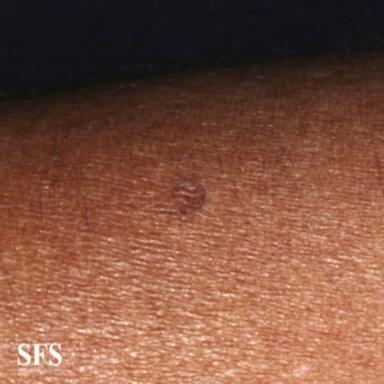Porokeratosis: (172, 180, 205, 220)
